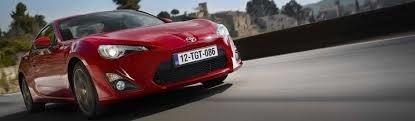license-plates: (174, 46, 218, 64)
